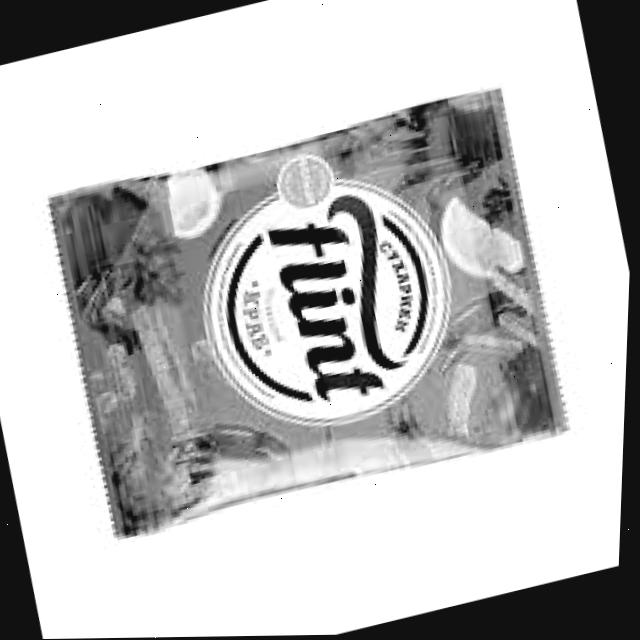flint: (181, 155, 483, 451)
